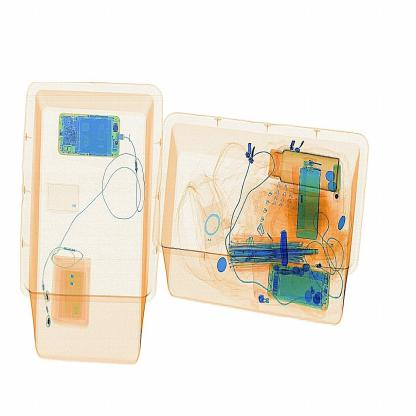knife: (269, 217, 297, 273)
